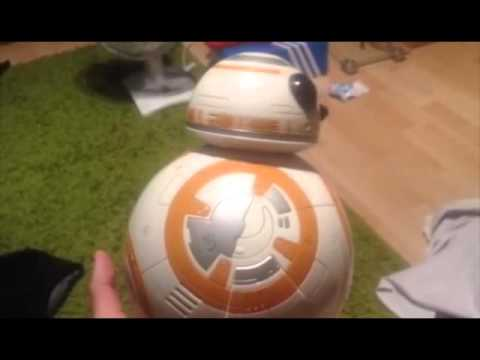bb8: (123, 52, 354, 317)
